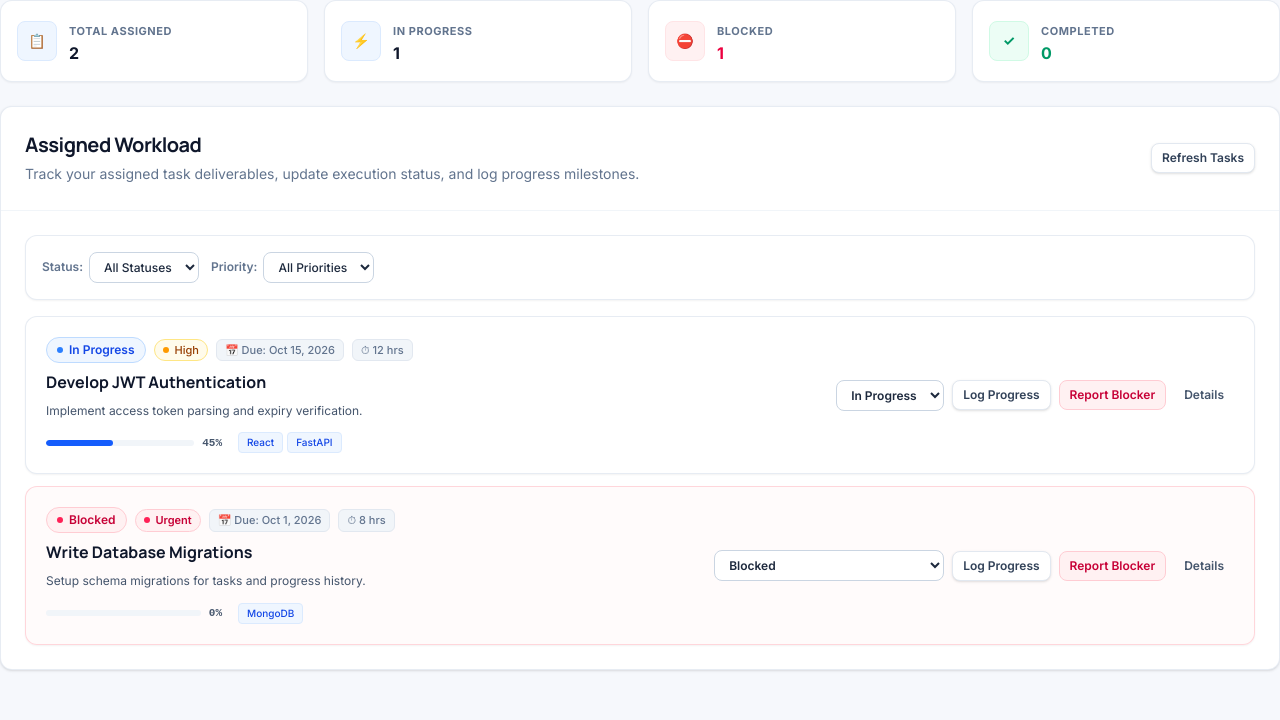
EmployeeTasks Component › opens task details modal and renders description and progress history
Step 1. Click the button "Details" in the row of "Develop JWT Authentication" → (1204, 395), box [1174,381,1234,409]
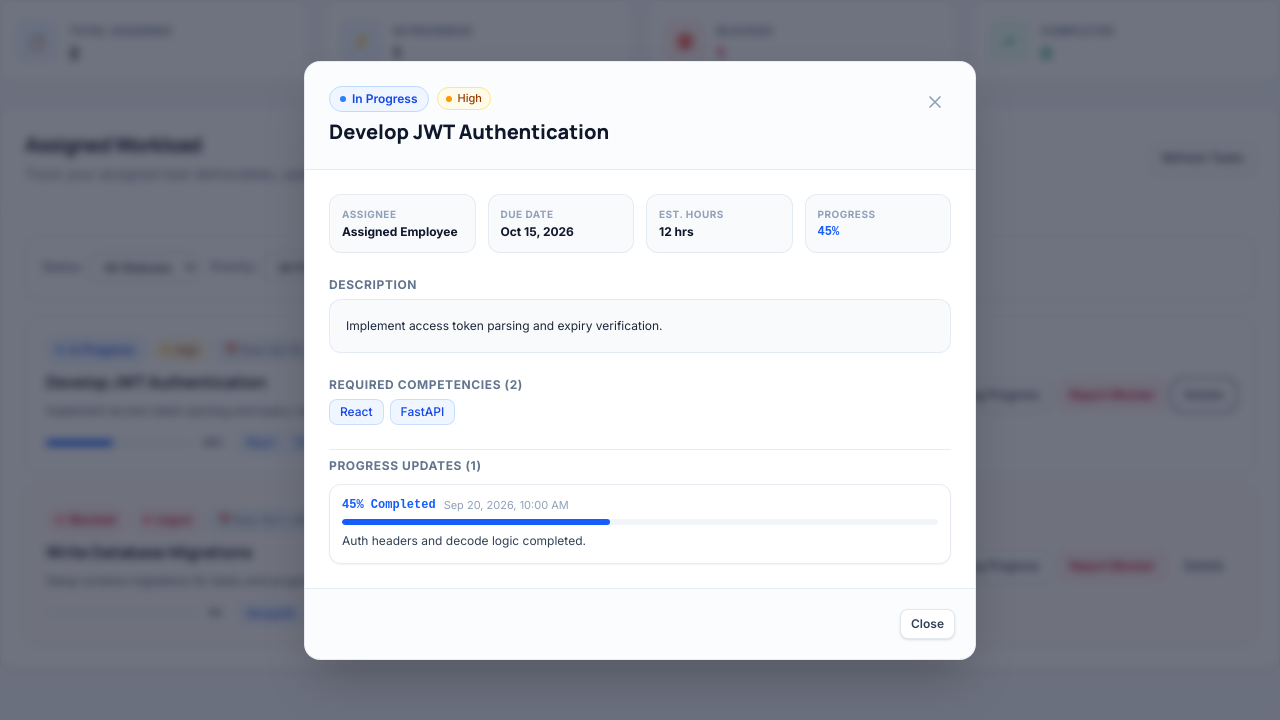
Now the text "Auth headers and decode logic completed." is shown, box [342,533,586,548]
